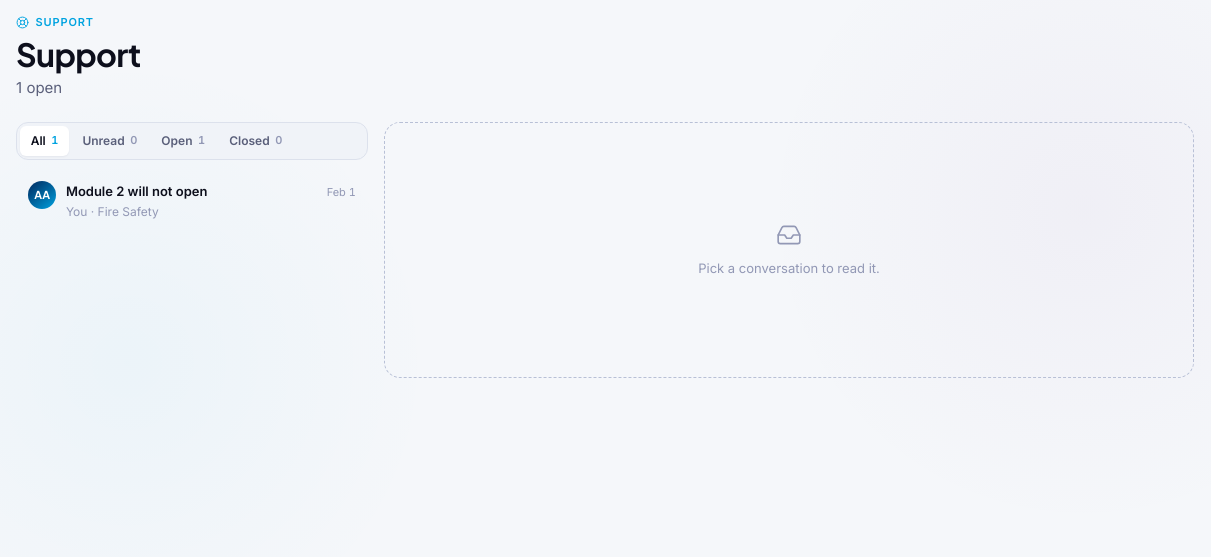
Scenario: a conversation › shows both sides, and names who answered
Click the button "AA Module 2 will not open Feb 1 You · Fire Safety" at (137, 191), box [16,170,368,237]
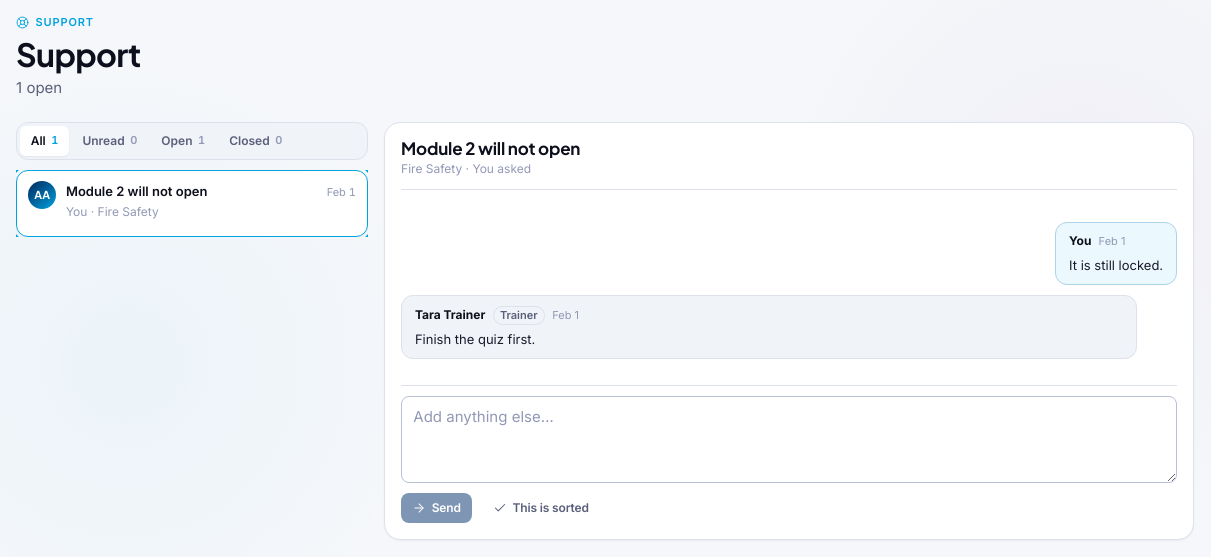
expect the text "It is still locked." is shown: met, box [1069,255,1163,275]
expect the text "Finish the quiz first." is shown: met, box [415,331,535,347]
expect the text "Tara Trainer" is shown: met, box [415,306,485,325]
